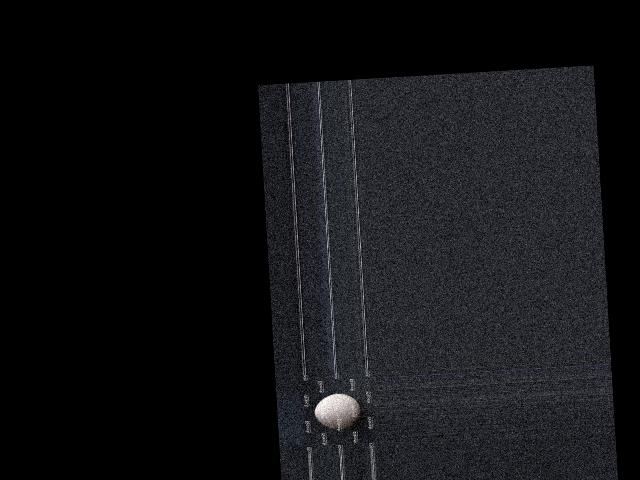egg: (313, 392, 362, 430)
